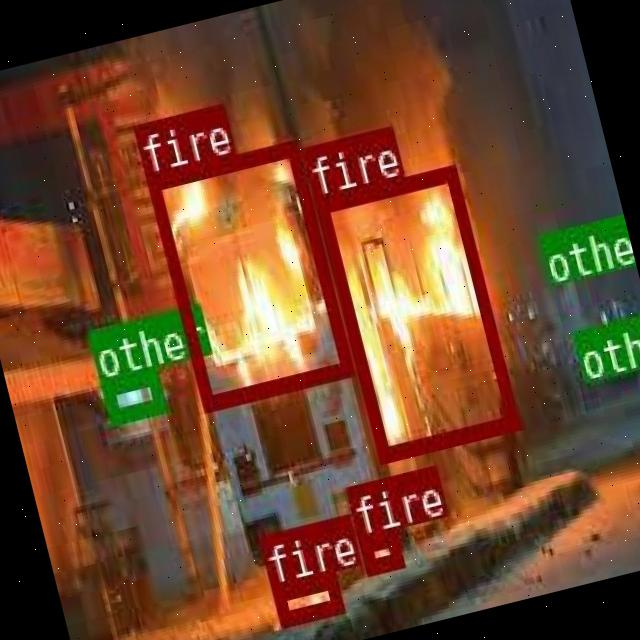fire: (312, 164, 518, 460), (144, 139, 352, 409), (268, 570, 342, 624), (358, 527, 400, 573)
